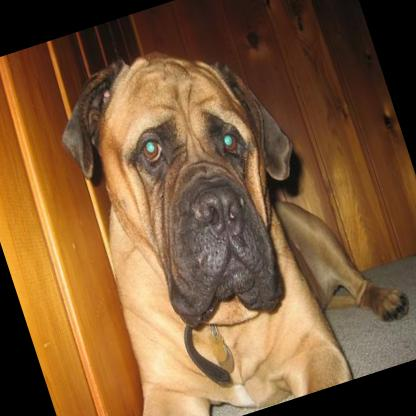bull_mastiff: (29, 0, 416, 416)
